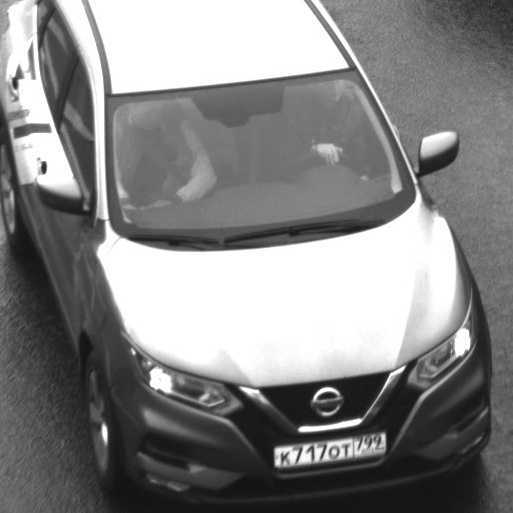plate: (265, 416, 396, 475)
